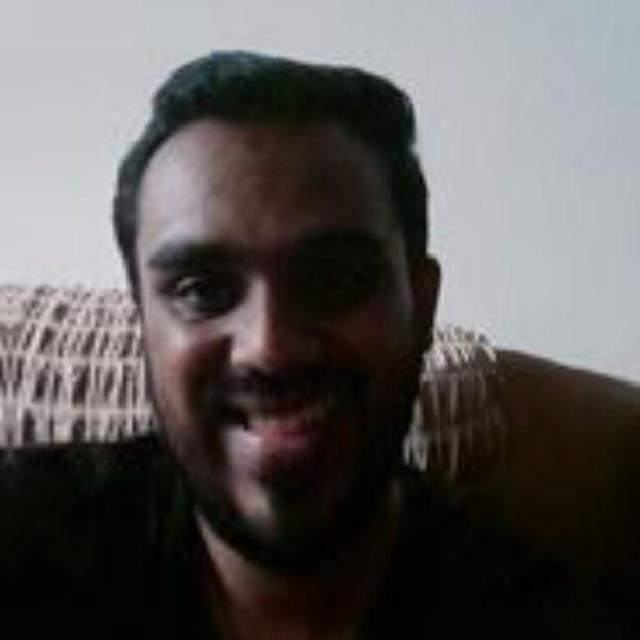Happy: (121, 94, 441, 555)
